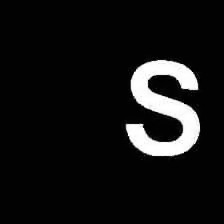LTR_S: (118, 54, 205, 160)
